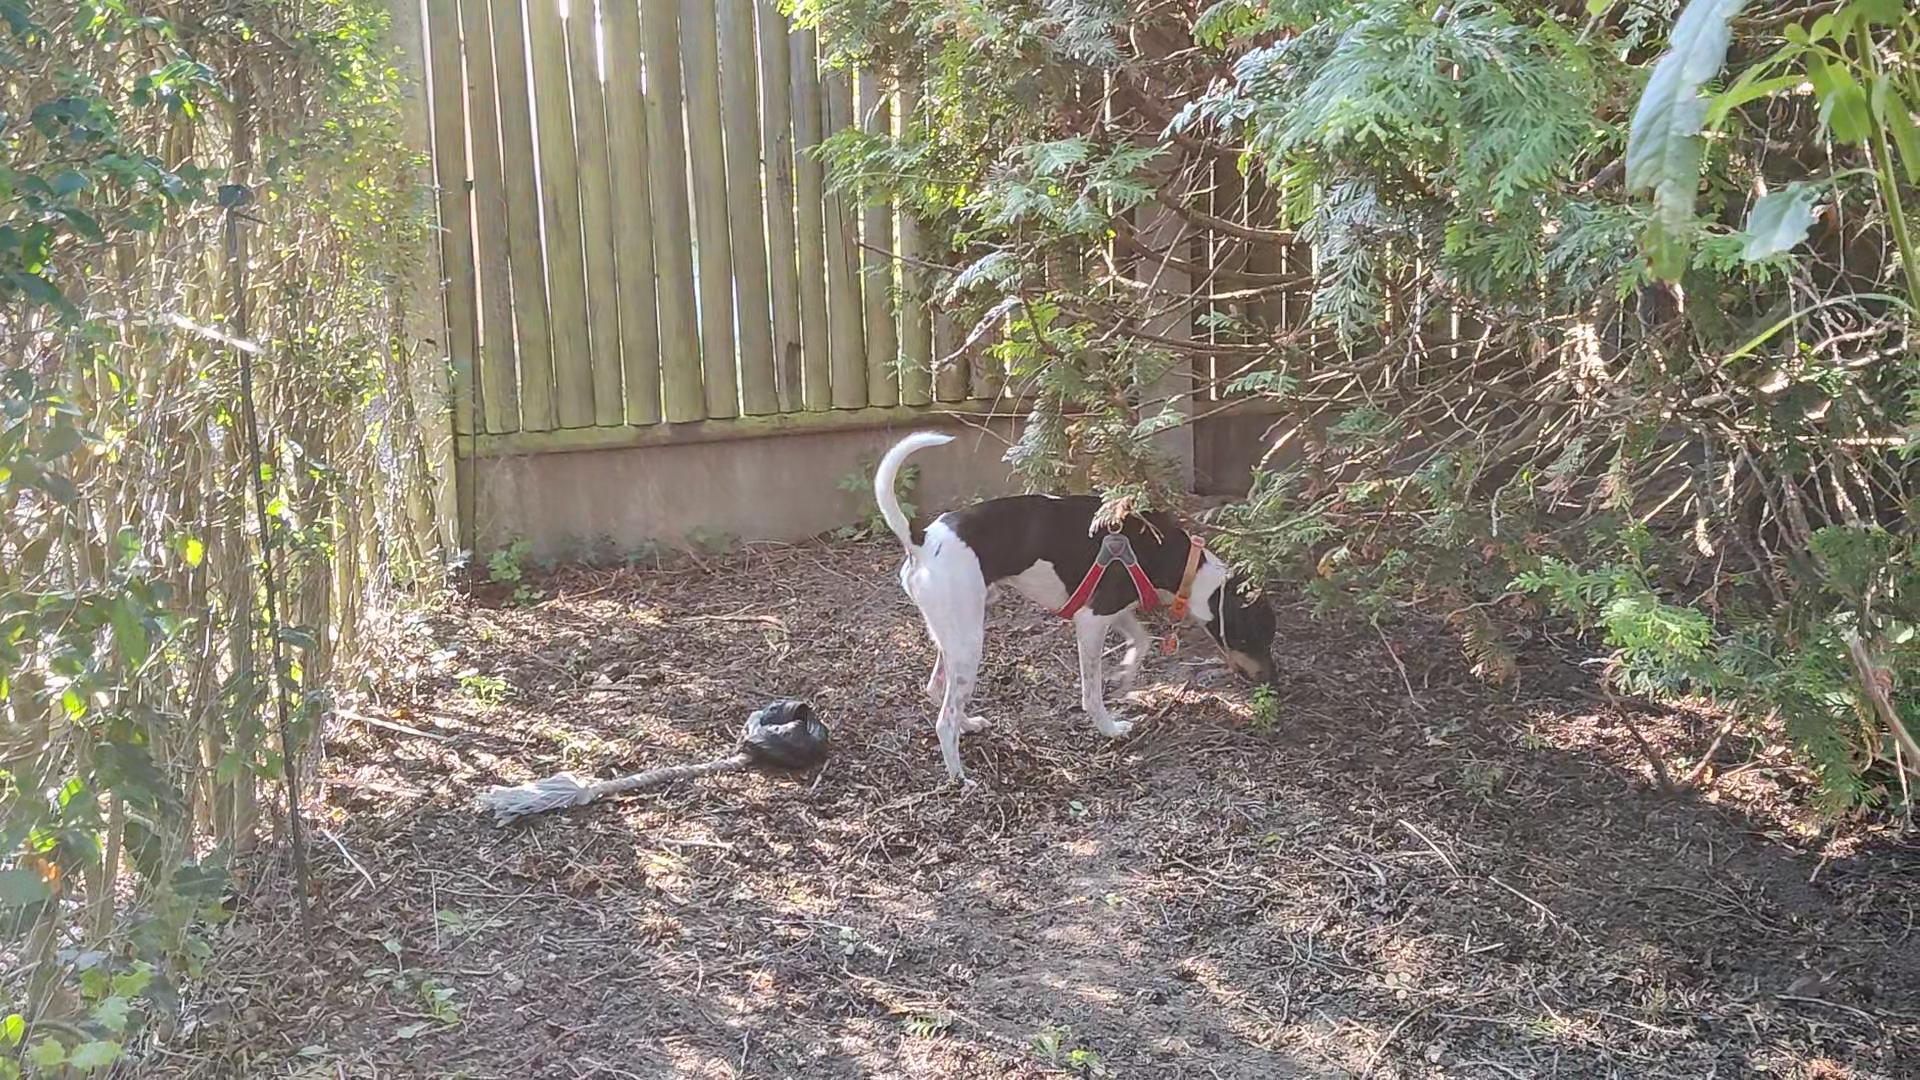Dog: (858, 404, 1296, 803)
